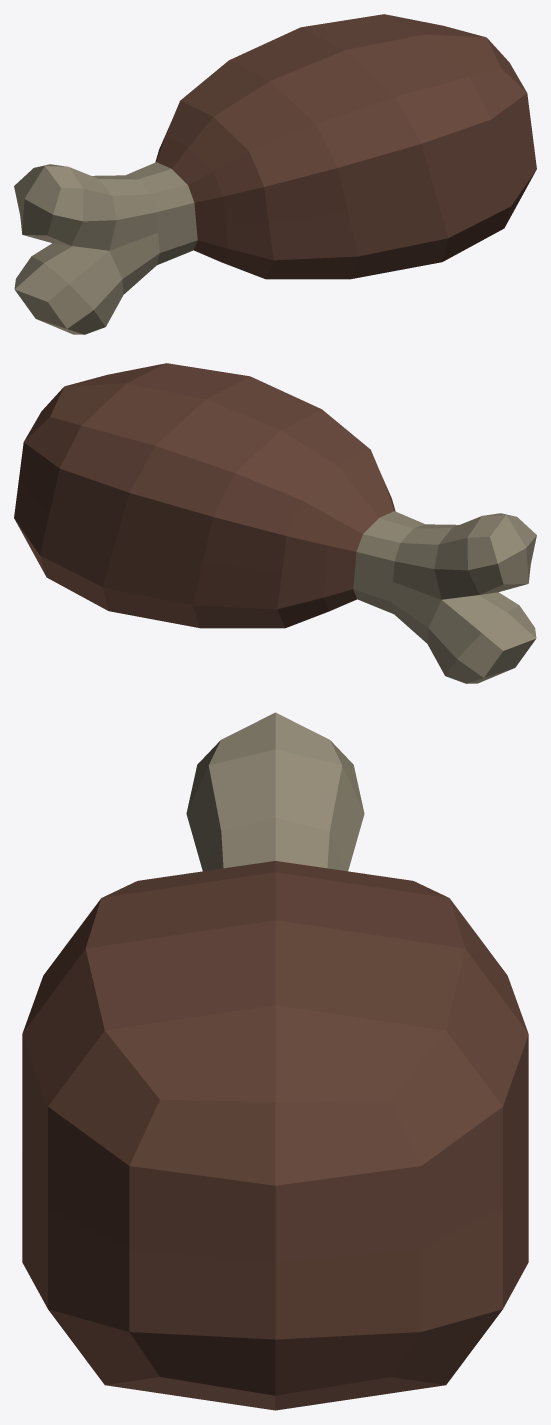
Rendered from ChickenLeg.obj.
3 renders of one model, top to bottom at view 1: azimuth 30°, elevation 25°; view 2: azimuth 150°, elevation 25°; view 3: azimuth 270°, elevation 25°, orthographic. The views are drawn at different scales.
Visible parts, largest first — view 1: mesh_1, mesh_0; view 2: mesh_1, mesh_0; view 3: mesh_1, mesh_0.
Part boxes in pixels (x1,y1,x2,y2): mesh_1: (155,14,536,279); mesh_0: (14,162,197,334); mesh_1: (14,363,395,628); mesh_0: (353,511,536,683); mesh_1: (22,861,528,1410); mesh_0: (186,712,364,871).
Size of the model in its own units: 1.4 by 0.5815 by 0.6119.
